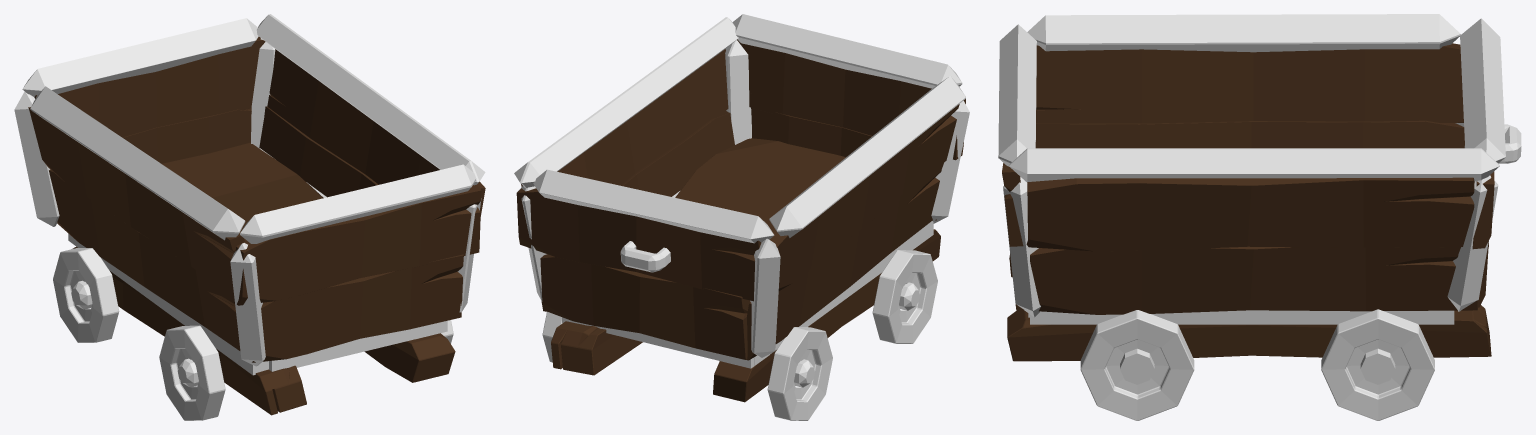
The model's file is Minecart export 003.fbx.
3 renders of one model, left to right at view 1: azimuth 30°, elevation 25°; view 2: azimuth 150°, elevation 25°; view 3: azimuth 270°, elevation 25°, orthographic. The views are drawn at different scales.
Parts seen in each view (by area): view 1: Plank .032, Plank .033, Plank .034, Plank .029, Plank .030, Plank .027, Cube.247, Cube.249, Cube.248, Plank .031, Cube.246, Plank .037 (+13 smaller); view 2: Plank .035, Plank .034, Plank .032, Plank .027, Plank .029, Plank .030, Plank .031, Cube.247, Cube.246, Cube.249, Cube.248, Cylinder.075 (+15 smaller); view 3: Plank .027, Plank .029, Plank .028, Cube.247, Cube.246, Plank .030, Plank .036, Cylinder.077, Cylinder.073, Cube.249, Cube.248, Cube.242 (+7 smaller).
Part boxes in pixels (bbox=[...]): Plank .032: bbox=[234, 185, 481, 305]; Plank .033: bbox=[252, 254, 463, 362]; Plank .034: bbox=[34, 36, 265, 137]; Plank .029: bbox=[28, 107, 244, 295]; Plank .030: bbox=[49, 169, 240, 350]; Plank .027: bbox=[267, 49, 485, 216]; Cube.247: bbox=[30, 86, 245, 240]; Cube.249: bbox=[22, 18, 258, 97]; Cube.248: bbox=[240, 164, 476, 243]; Plank .031: bbox=[161, 142, 323, 241]; Cube.246: bbox=[256, 14, 485, 185]; Plank .037: bbox=[72, 246, 306, 415]; Plank .035: bbox=[540, 254, 749, 359]; Plank .034: bbox=[516, 188, 761, 301]; Plank .032: bbox=[737, 39, 965, 160]; Plank .027: bbox=[521, 49, 728, 186]; Plank .029: bbox=[769, 104, 959, 290]; Plank .030: bbox=[746, 163, 943, 360]; Plank .031: bbox=[675, 138, 845, 231]; Cube.247: bbox=[769, 76, 965, 237]; Cube.246: bbox=[514, 17, 738, 188]; Cube.249: bbox=[533, 169, 774, 243]; Cube.248: bbox=[732, 14, 962, 88]; Cylinder.075: bbox=[872, 250, 937, 343]; Plank .027: bbox=[1026, 177, 1474, 251]; Plank .029: bbox=[1036, 43, 1463, 123]; Plank .028: bbox=[1030, 246, 1477, 314]; Cube.247: bbox=[1027, 14, 1460, 52]; Cube.246: bbox=[1009, 148, 1499, 182]; Plank .030: bbox=[1035, 120, 1464, 148]; Plank .036: bbox=[1007, 305, 1491, 361]; Cylinder.077: bbox=[1321, 309, 1434, 420]; Cylinder.073: bbox=[1080, 310, 1194, 420]; Cube.249: bbox=[1460, 18, 1505, 163]; Cube.248: bbox=[998, 24, 1036, 166]; Cube.242: bbox=[1030, 310, 1454, 324].
Size of the model in its own units: 65.52 by 54.84 by 95.28.
